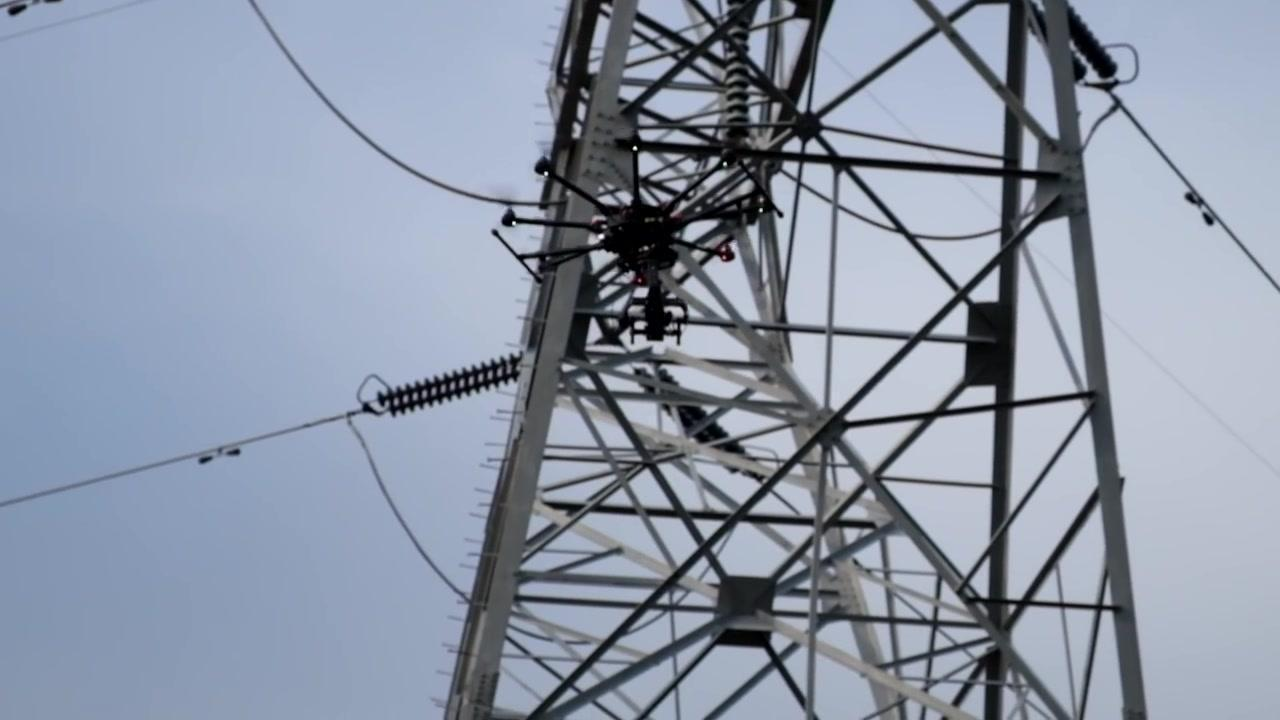UAV: (491, 136, 773, 346)
